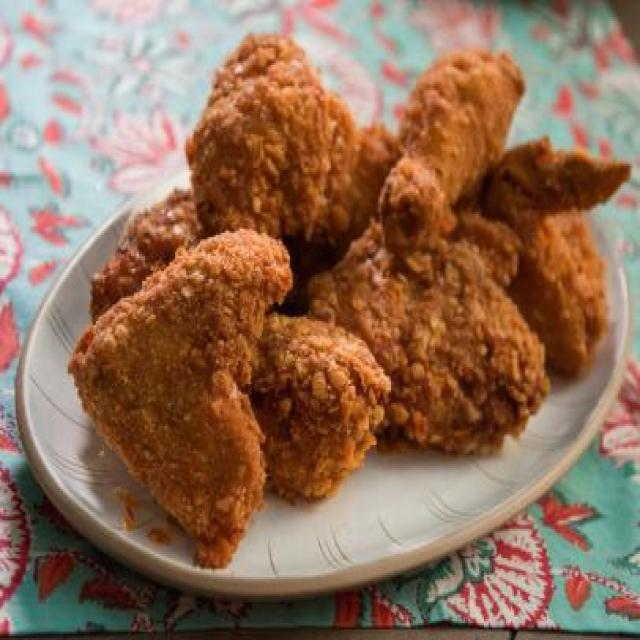Frango: (68, 29, 632, 573)
